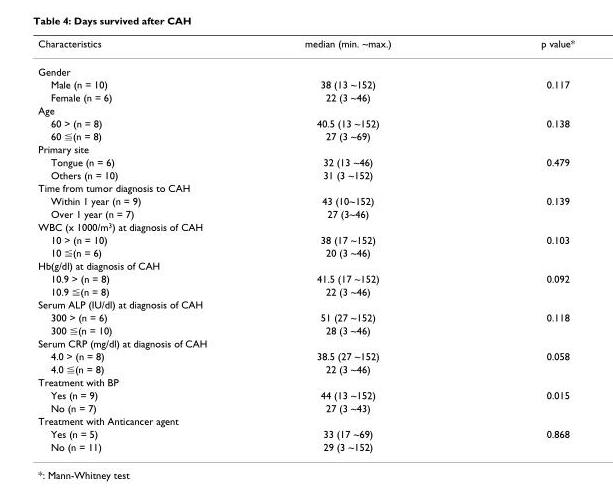table: (37, 37, 574, 452)
table column: (222, 37, 465, 452), (37, 37, 222, 452), (465, 37, 574, 452)
table column header: (37, 37, 574, 57)
table projected row header: (37, 57, 574, 77), (37, 103, 574, 116), (37, 142, 574, 155), (37, 181, 574, 194), (37, 219, 574, 232), (37, 258, 574, 271), (37, 297, 574, 310), (37, 336, 574, 349), (37, 375, 574, 388), (37, 414, 574, 426)
table row: (37, 37, 574, 57), (37, 57, 574, 77), (37, 77, 574, 90), (37, 90, 574, 103), (37, 103, 574, 116), (37, 116, 574, 129), (37, 129, 574, 142), (37, 142, 574, 155), (37, 155, 574, 168), (37, 168, 574, 181), (37, 181, 574, 194), (37, 206, 574, 219), (37, 219, 574, 232), (37, 232, 574, 245), (37, 245, 574, 258), (37, 258, 574, 271), (37, 271, 574, 284), (37, 284, 574, 297), (37, 297, 574, 310), (37, 310, 574, 323), (37, 323, 574, 336), (37, 336, 574, 349), (37, 349, 574, 362), (37, 362, 574, 375), (37, 375, 574, 388), (37, 388, 574, 401), (37, 401, 574, 414), (37, 426, 574, 439), (37, 439, 574, 452), (37, 194, 574, 206), (37, 414, 574, 426)
